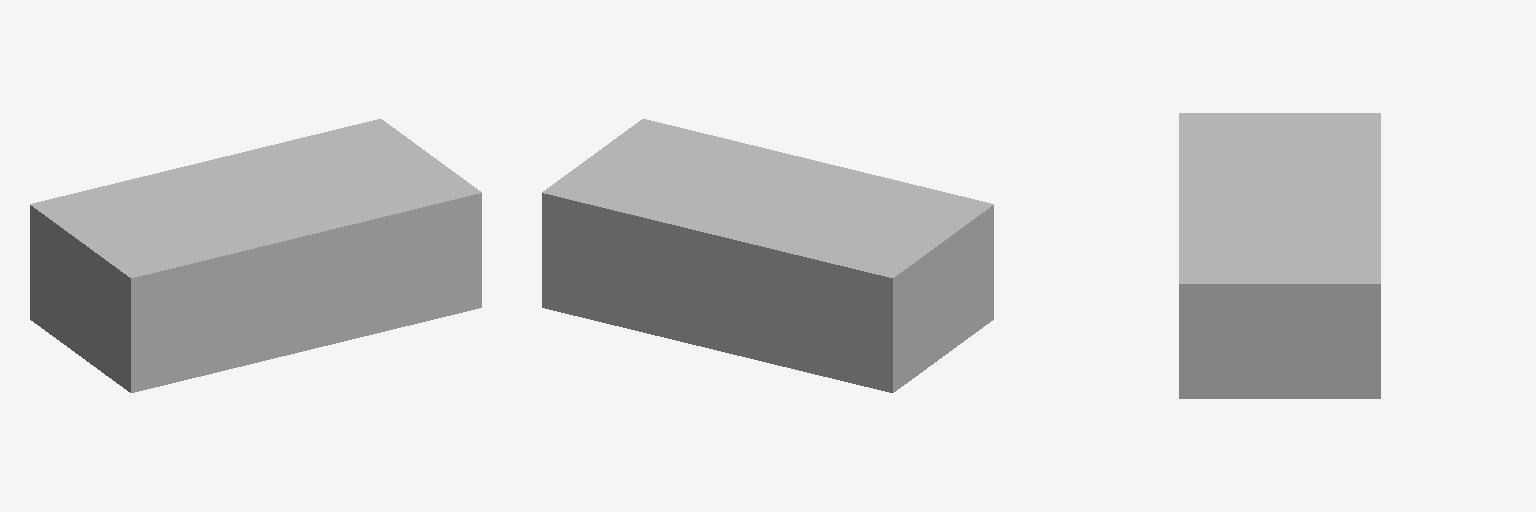
Rendered from brick_item.obj.
3 renders of one model, left to right at view 1: azimuth 30°, elevation 25°; view 2: azimuth 150°, elevation 25°; view 3: azimuth 270°, elevation 25°, orthographic.
Parts seen in each view (by area): view 1: brick_brick_item; view 2: brick_brick_item; view 3: brick_brick_item.
Part boxes in pixels (left/top/right/bottom): brick_brick_item: left=30, top=119, right=481, bottom=392; brick_brick_item: left=542, top=119, right=993, bottom=392; brick_brick_item: left=1179, top=113, right=1380, bottom=398.
Bounding box in the file's own units: 0.24 × 0.075 × 0.12.